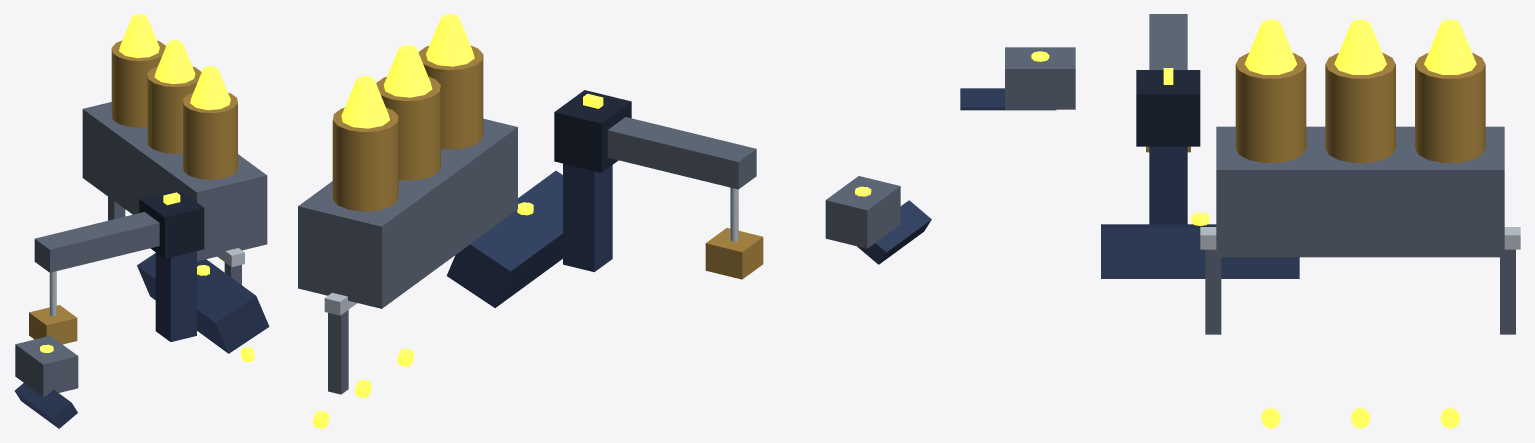
File: tower_nova_rate_s7.glb
The picture shows the model from 3 angles, left to right: view 1: azimuth 30°, elevation 25°; view 2: azimuth 150°, elevation 25°; view 3: azimuth 270°, elevation 25°; orthographic projection. The views are drawn at different scales.
Parts seen in each view (by area): view 1: nova_hopper_ext, nova_hoist_chute_b, nova_hoist_arm, nova_shell_b0, nova_hoist_post, nova_hoist_motor, nova_shell_b2, nova_ejector_box, nova_shell_b1, nova_hoist_grab, nova_ejector_chute, nova_shell_b_fuse1 (+6 smaller); view 2: nova_hopper_ext, nova_hoist_chute_b, nova_hoist_arm, nova_shell_b2, nova_hoist_post, nova_hoist_motor, nova_ejector_box, nova_shell_b0, nova_shell_b1, nova_hoist_grab, nova_shell_b_fuse0, nova_shell_b_fuse1 (+3 smaller); view 3: nova_hopper_ext, nova_hoist_chute_b, nova_shell_b0, nova_shell_b1, nova_shell_b2, nova_hoist_motor, nova_ejector_box, nova_hoist_post, nova_hoist_arm, nova_shell_b_fuse1, nova_shell_b_fuse0, nova_shell_b_fuse2 (+4 smaller).
Boxes of the visible parts, left/top/right/bottom form: nova_hopper_ext: left=82, top=102, right=267, bottom=261; nova_hoist_chute_b: left=137, top=253, right=269, bottom=353; nova_hoist_arm: left=34, top=212, right=159, bottom=272; nova_shell_b0: left=183, top=92, right=237, bottom=179; nova_hoist_post: left=155, top=251, right=196, bottom=341; nova_hoist_motor: left=139, top=189, right=204, bottom=258; nova_shell_b2: left=111, top=40, right=165, bottom=127; nova_ejector_box: left=15, top=335, right=78, bottom=396; nova_shell_b1: left=147, top=66, right=201, bottom=153; nova_hoist_grab: left=29, top=305, right=77, bottom=344; nova_ejector_chute: left=14, top=383, right=77, bottom=428; nova_shell_b_fuse1: left=154, top=40, right=195, bottom=84; nova_hopper_ext: left=298, top=118, right=517, bottom=308; nova_hoist_chute_b: left=446, top=170, right=563, bottom=307; nova_hoist_arm: left=607, top=117, right=756, bottom=189; nova_shell_b2: left=332, top=107, right=398, bottom=211; nova_hoist_post: left=563, top=163, right=612, bottom=272; nova_hoist_motor: left=554, top=90, right=631, bottom=172; nova_ejector_box: left=825, top=176, right=900, bottom=248; nova_shell_b0: left=418, top=45, right=483, bottom=149; nova_shell_b1: left=376, top=76, right=440, bottom=180; nova_hoist_grab: left=705, top=228, right=763, bottom=279; nova_shell_b_fuse0: left=426, top=14, right=474, bottom=66; nova_shell_b_fuse1: left=383, top=45, right=432, bottom=97; nova_hopper_ext: left=1216, top=126, right=1504, bottom=257; nova_hoist_chute_b: left=1101, top=224, right=1299, bottom=278; nova_shell_b0: left=1235, top=52, right=1306, bottom=162; nova_shell_b1: left=1325, top=52, right=1395, bottom=162; nova_shell_b2: left=1415, top=52, right=1485, bottom=162; nova_hoist_motor: left=1136, top=70, right=1200, bottom=146; nova_ejector_box: left=1005, top=47, right=1075, bottom=109; nova_hoist_post: left=1149, top=146, right=1187, bottom=224; nova_hoist_arm: left=1149, top=14, right=1187, bottom=69; nova_shell_b_fuse1: left=1334, top=19, right=1386, bottom=74; nova_shell_b_fuse0: left=1244, top=19, right=1296, bottom=74; nova_shell_b_fuse2: left=1424, top=19, right=1476, bottom=74.
Size of the model in its own units: 1.46 by 1.31 by 1.75.
